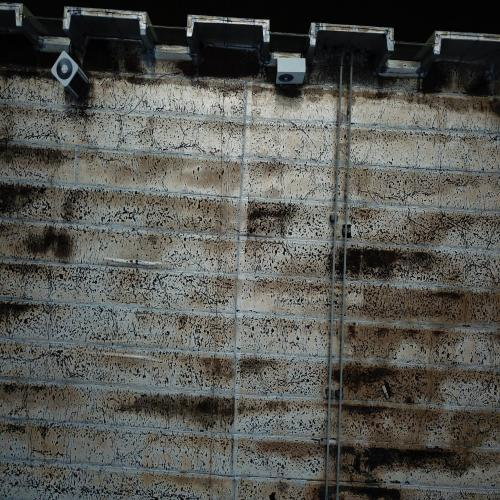conde: (49, 48, 93, 104), (272, 56, 309, 90)
